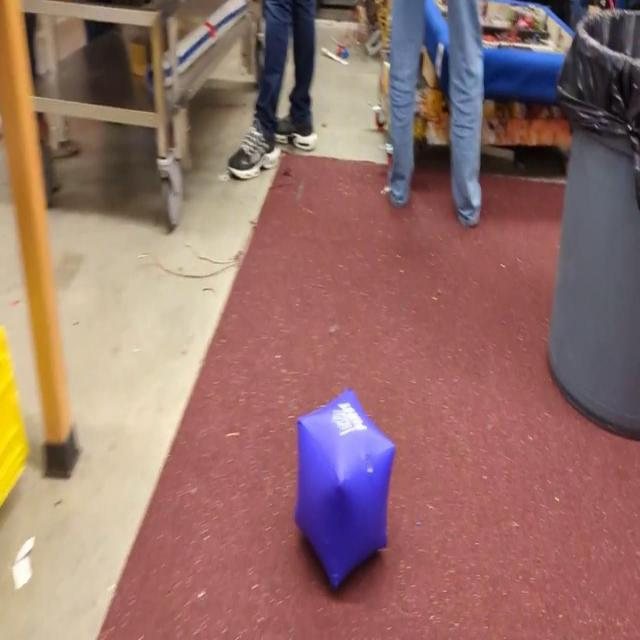frc_cube: (293, 383, 396, 591)
